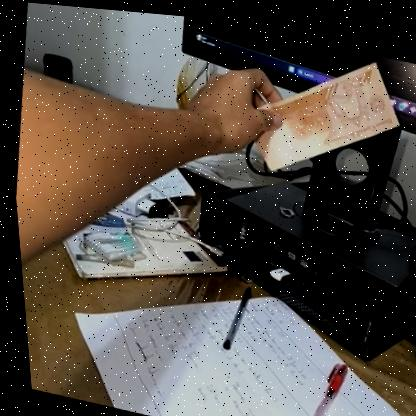twenty-back-vef: (236, 29, 411, 193)
